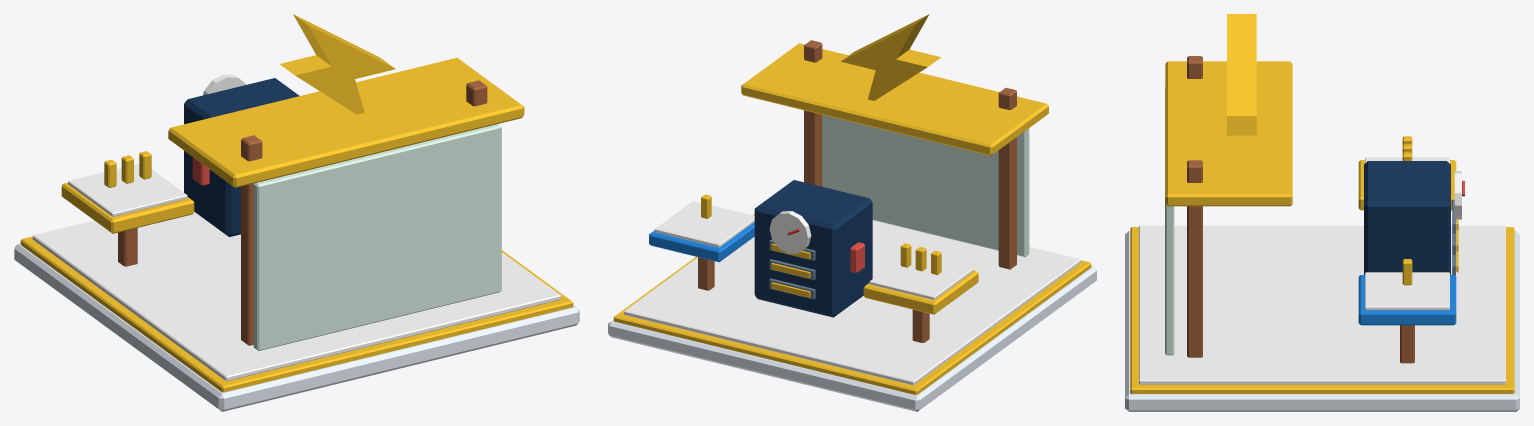
Rendered from Building_ElectricAmplifier_2x2_v002.fbx.
3 renders of one model, left to right at view 1: azimuth 30°, elevation 25°; view 2: azimuth 150°, elevation 25°; view 3: azimuth 270°, elevation 25°, orthographic. The views are drawn at different scales.
Parts seen in each view (by area): view 1: FixedShell, OutputItemMesh; view 2: FixedShell, OutputItemMesh; view 3: FixedShell.
Part boxes in pixels (<box>): FixedShell: <box>14,14,579,411</box>; OutputItemMesh: <box>104,151,151,187</box>; FixedShell: <box>608,14,1096,411</box>; OutputItemMesh: <box>900,243,941,275</box>; FixedShell: <box>1125,14,1519,411</box>.
Bounding box in the file's own units: 186 × 155 × 186.
